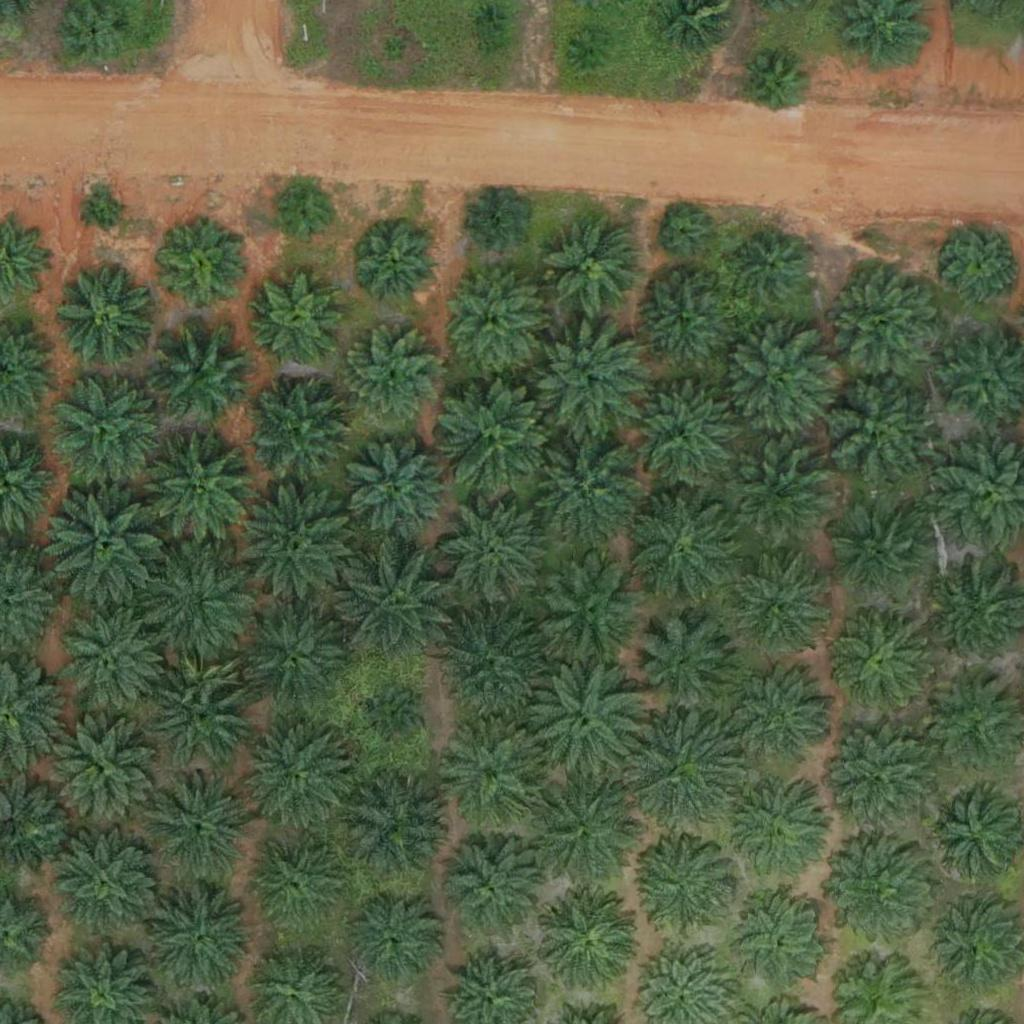Kelapa_Sawit: (40, 485, 165, 611), (133, 542, 258, 668), (229, 484, 354, 610), (334, 543, 459, 669), (435, 374, 560, 500), (431, 603, 556, 729), (518, 423, 643, 549), (528, 654, 653, 780), (623, 485, 748, 611), (618, 710, 743, 836), (823, 258, 948, 384), (811, 369, 936, 495), (816, 716, 941, 842), (524, 768, 649, 894), (619, 377, 744, 502), (143, 433, 256, 547), (243, 374, 356, 488), (342, 769, 455, 883), (235, 601, 348, 714), (240, 718, 353, 831), (532, 323, 645, 436), (533, 555, 646, 668), (628, 611, 741, 724), (727, 665, 840, 778), (819, 840, 932, 953), (715, 773, 828, 886), (148, 883, 261, 996), (440, 718, 552, 832), (49, 368, 161, 481), (52, 604, 164, 717), (142, 653, 254, 766), (343, 435, 455, 548), (434, 492, 546, 605), (721, 326, 833, 439), (722, 438, 834, 551), (239, 832, 351, 945), (144, 766, 256, 879), (52, 722, 152, 823), (339, 328, 439, 429), (443, 269, 543, 370), (543, 217, 643, 318), (632, 271, 732, 372), (831, 505, 931, 606), (832, 606, 932, 707), (923, 783, 1023, 884), (730, 893, 830, 994), (631, 837, 731, 938), (56, 836, 156, 937), (56, 263, 156, 363), (151, 321, 251, 421), (536, 895, 636, 995), (436, 839, 536, 939), (344, 894, 444, 994), (254, 273, 342, 361), (353, 222, 441, 310), (734, 561, 822, 649), (160, 227, 247, 315), (944, 227, 1019, 303), (735, 230, 810, 305), (742, 54, 805, 117), (364, 689, 427, 752), (465, 192, 528, 255), (275, 185, 337, 248), (660, 209, 710, 259), (572, 30, 610, 68), (87, 193, 124, 231), (383, 37, 408, 62), (476, 5, 501, 30)
